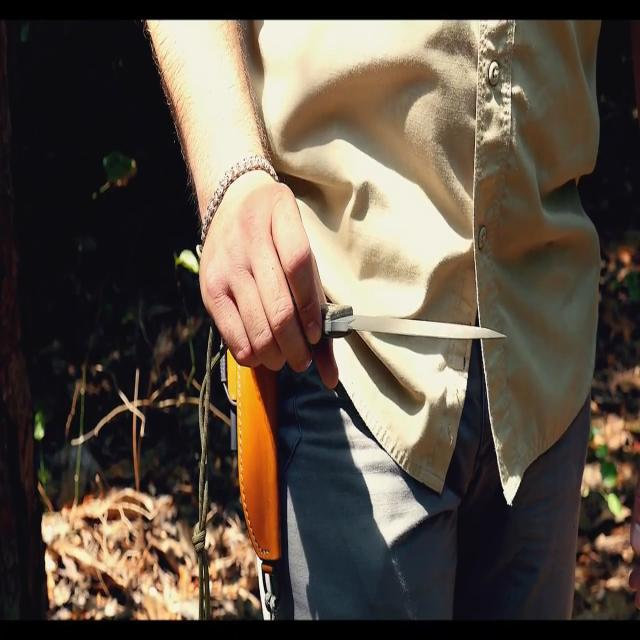knife: (321, 300, 511, 345)
